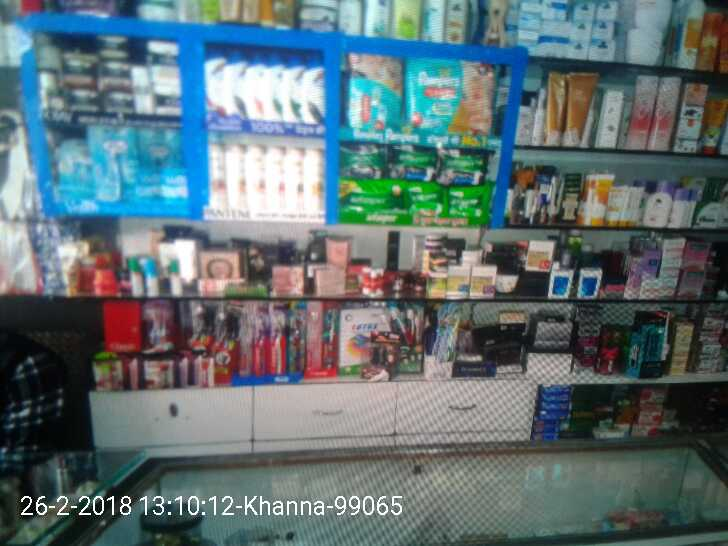venus: (87, 127, 140, 199), (140, 130, 185, 199), (54, 127, 87, 200)
